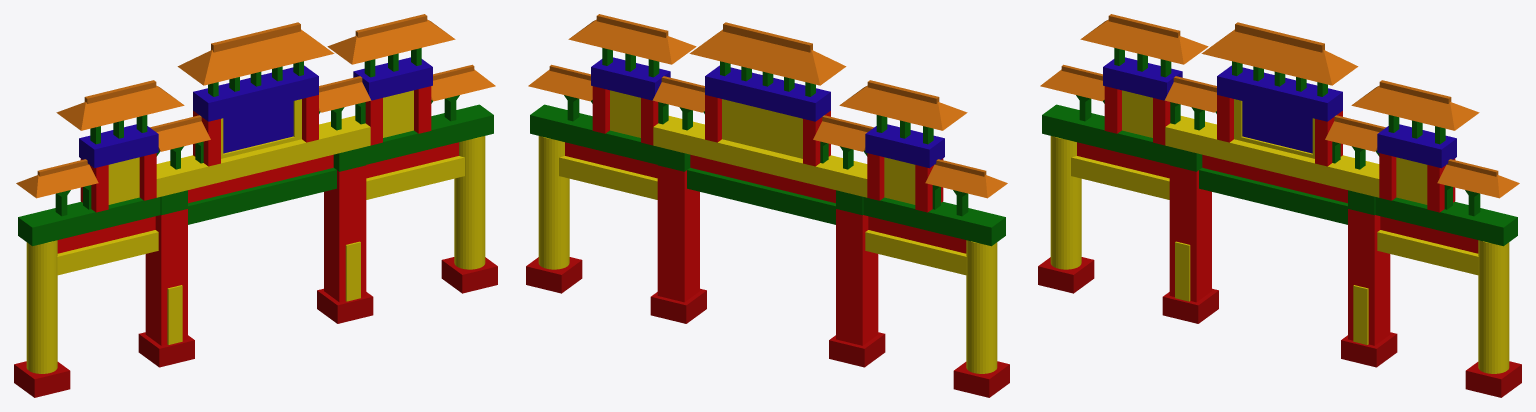
File: ChinaTown.glb
3 views of the same model, side by side, from view 1: azimuth 30°, elevation 25°; view 2: azimuth 150°, elevation 25°; view 3: azimuth 330°, elevation 25° (orthographic).
Parts seen in each view (by area): view 1: Cube; view 2: Cube; view 3: Cube.
Boxes of the visible parts, x1,y1,x2,y2 form: Cube: (14, 14, 497, 397); Cube: (526, 14, 1009, 397); Cube: (1038, 14, 1521, 397).
Size of the model in its own units: 13 by 8.04 by 1.27.
